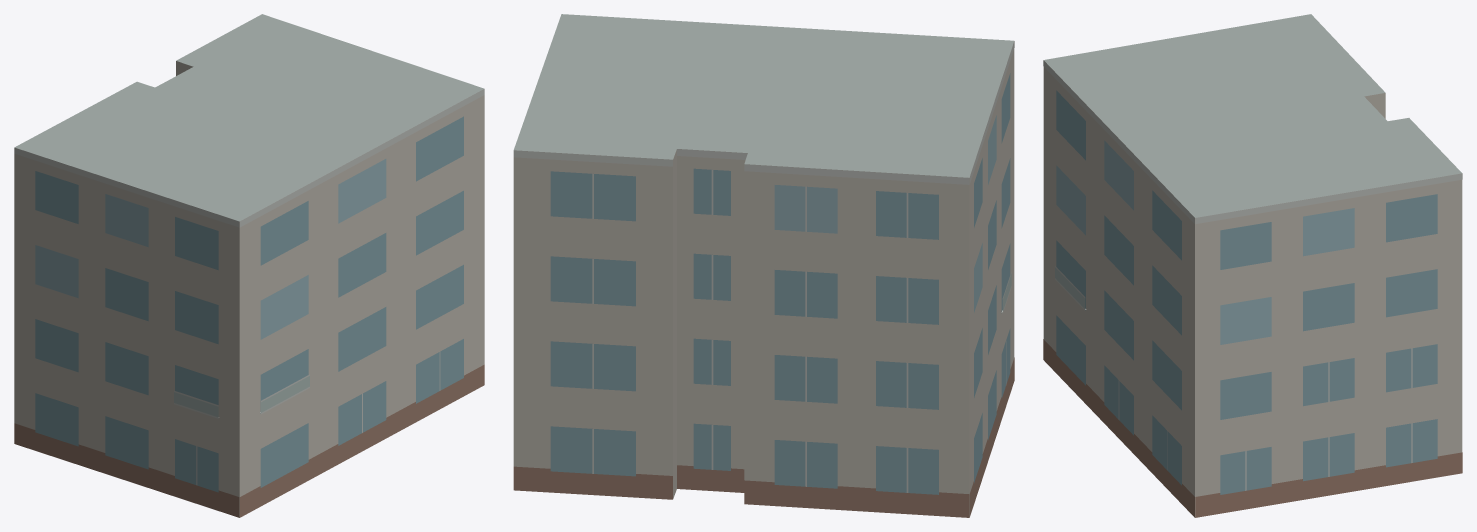
Rendered from survey-upis-32687796.glb.
3 renders of one model, left to right at view 1: azimuth 30°, elevation 25°; view 2: azimuth 150°, elevation 25°; view 3: azimuth 270°, elevation 25°, orthographic. The views are drawn at different scales.
Parts seen in each view (by area): view 1: survey-upis-32687796.tmp; view 2: survey-upis-32687796.tmp; view 3: survey-upis-32687796.tmp.
Boxes of the visible parts, left/top/right/bottom form: survey-upis-32687796.tmp: left=14, top=14, right=484, bottom=517; survey-upis-32687796.tmp: left=513, top=14, right=1014, bottom=517; survey-upis-32687796.tmp: left=1043, top=14, right=1462, bottom=517.
Size of the model in its own units: 17.07 by 11.7 by 14.82.
